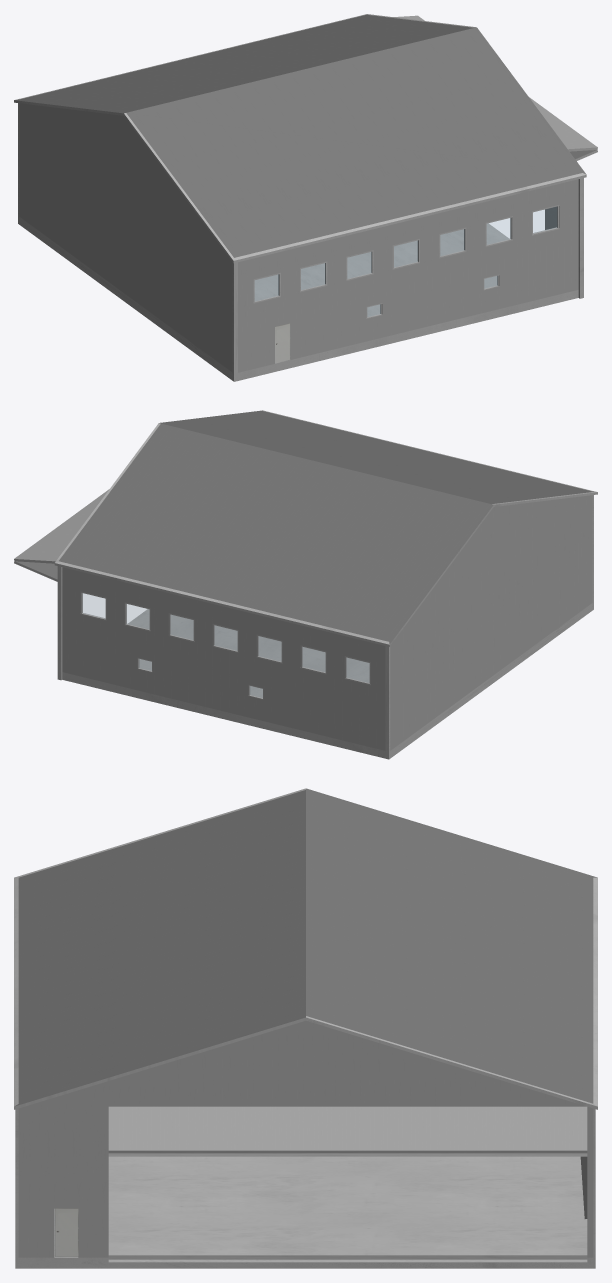
File: gen_open_hangar05-24x22x7-cbj_LOD01.gltf
3 views of the same model, one above another, from view 1: azimuth 30°, elevation 25°; view 2: azimuth 150°, elevation 25°; view 3: azimuth 270°, elevation 25° (orthographic). The views are drawn at different scales.
Parts seen in each view (by area): view 1: Cylinder.005; view 2: Cylinder.005; view 3: Cylinder.005.
Boxes of the visible parts, left/top/right/bottom form: Cylinder.005: left=14, top=14, right=597, bottom=381; Cylinder.005: left=14, top=410, right=597, bottom=759; Cylinder.005: left=14, top=788, right=597, bottom=1268.
Bounding box in the file's own units: 25.65 × 11.65 × 24.4.
